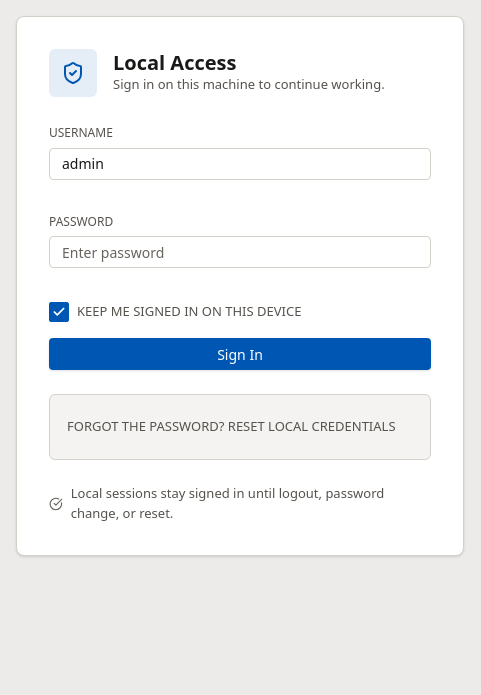
login (SPEC-15 PR 1) › a refused reset shows the server's message at the phrase
Step 1. Click the button "Forgot the password? Reset local credentials" → (240, 427), box [66,411,414,443]
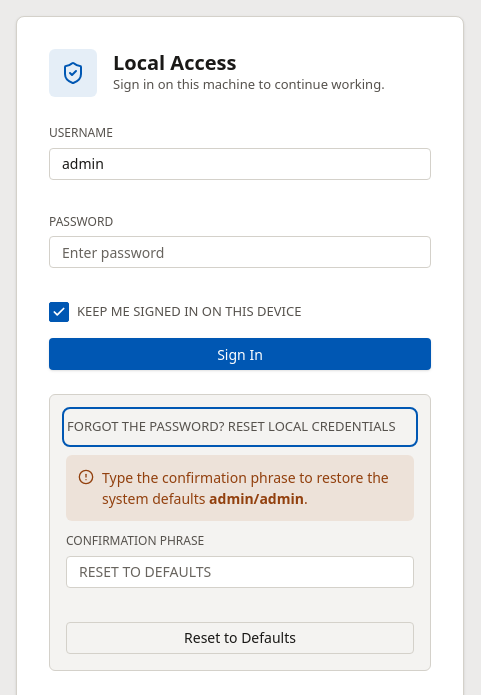
Step 2. Type "reset" into the field labelled "Confirmation Phrase" → (240, 572), box [66,556,414,588]
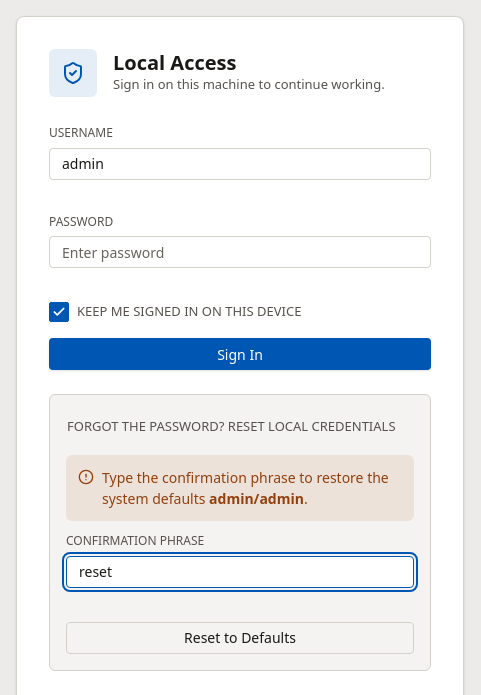
Step 3. Click the button "Reset to Defaults" → (240, 638), box [66,622,414,654]
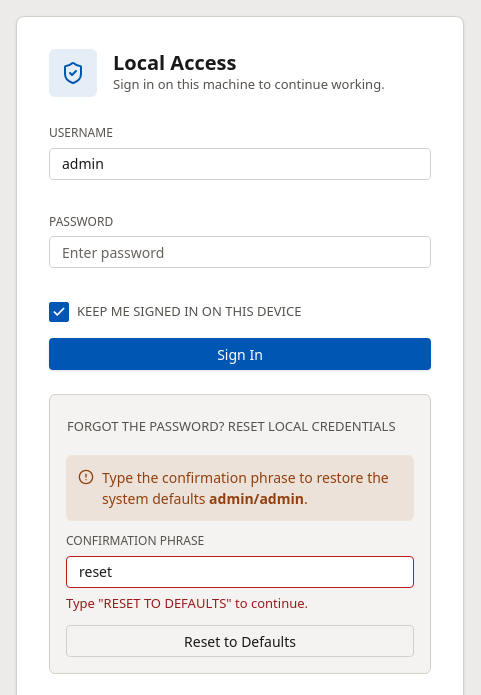
Expected: the text "Type \"RESET TO DEFAULTS\" to continue." is shown, [66,594,308,612]
